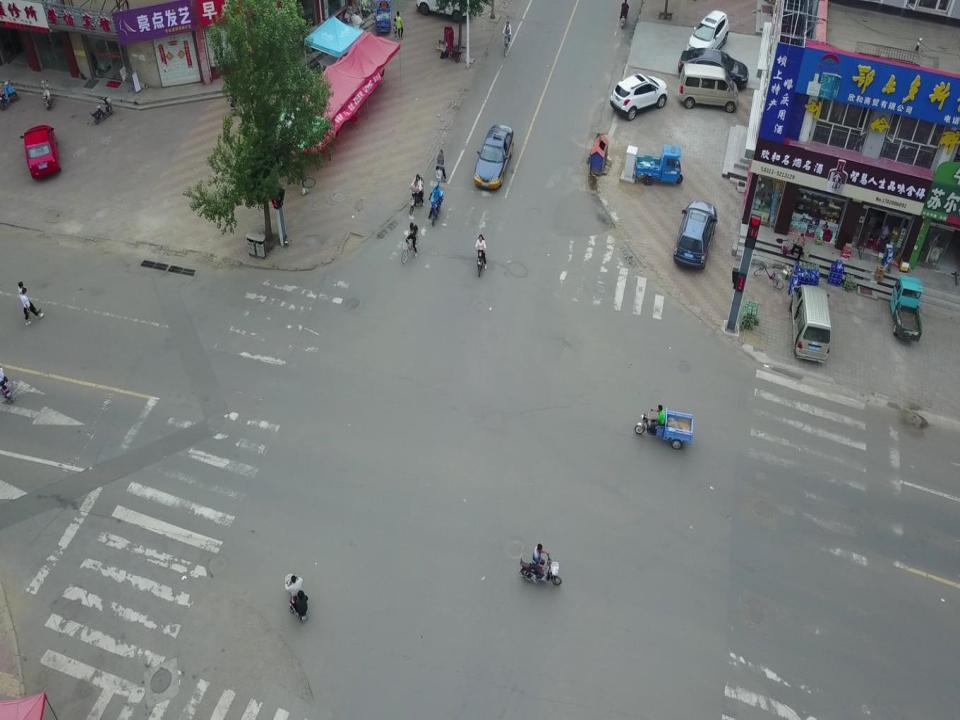car: (674, 59, 743, 114), (670, 199, 716, 271), (608, 75, 672, 122), (677, 46, 750, 86), (473, 121, 514, 191), (21, 121, 60, 179), (689, 7, 732, 51)
van: (788, 282, 829, 367)
